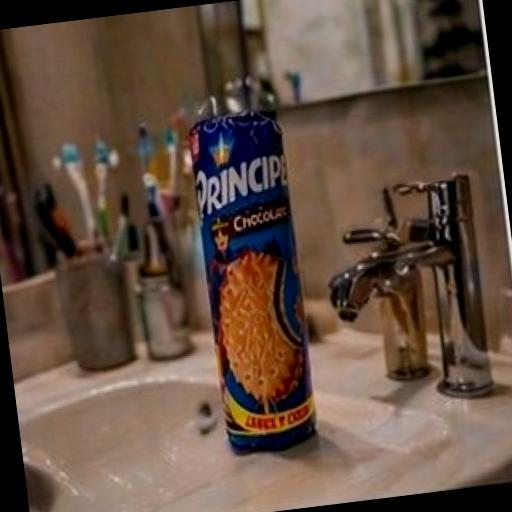prince: (141, 74, 387, 498)
